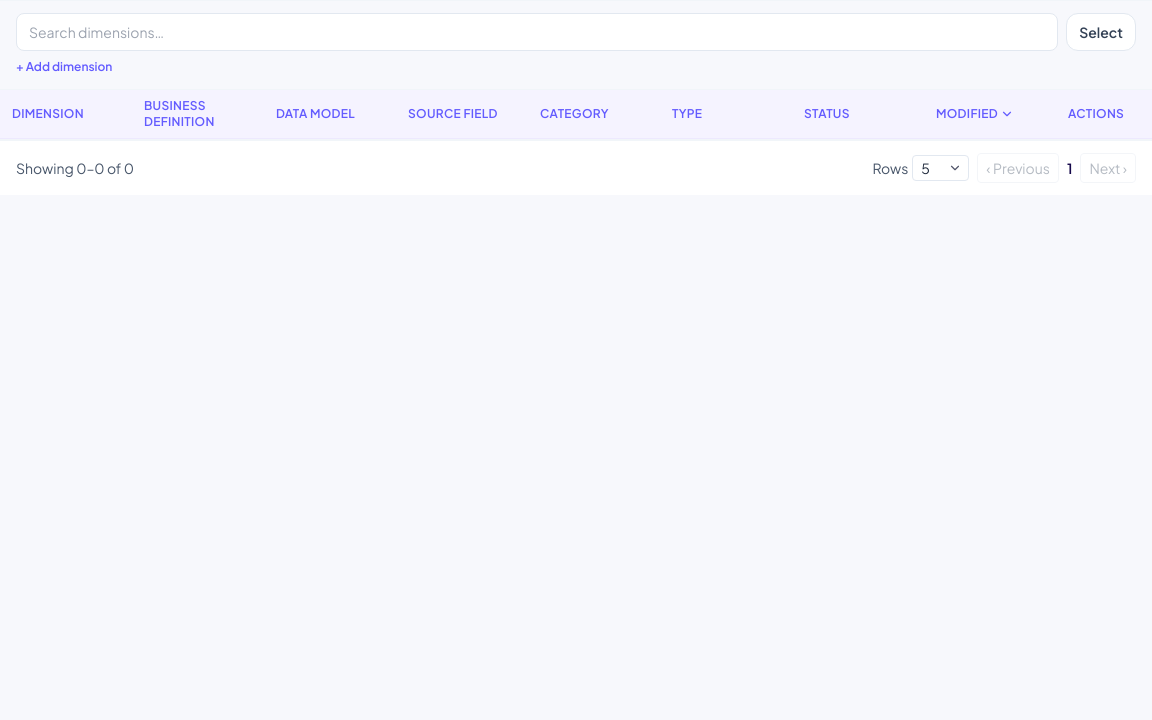
Test case: SEM-2A matrix › SEM-2A-018 Dimension create/edit
Click the button "+ Add dimension": (64,67) [16,59,112,75]
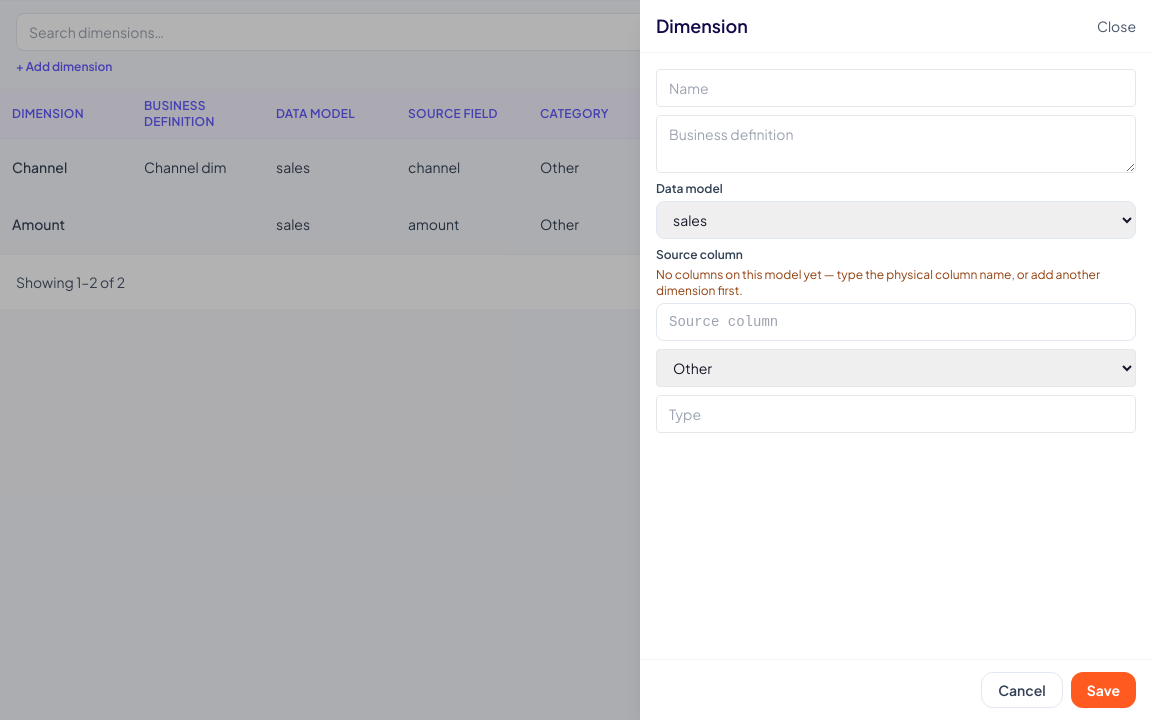
Expected: the field with placeholder "Name" is shown, [656,69,1136,107]
Click the button "Cancel": (1022,690) [981,672,1063,708]
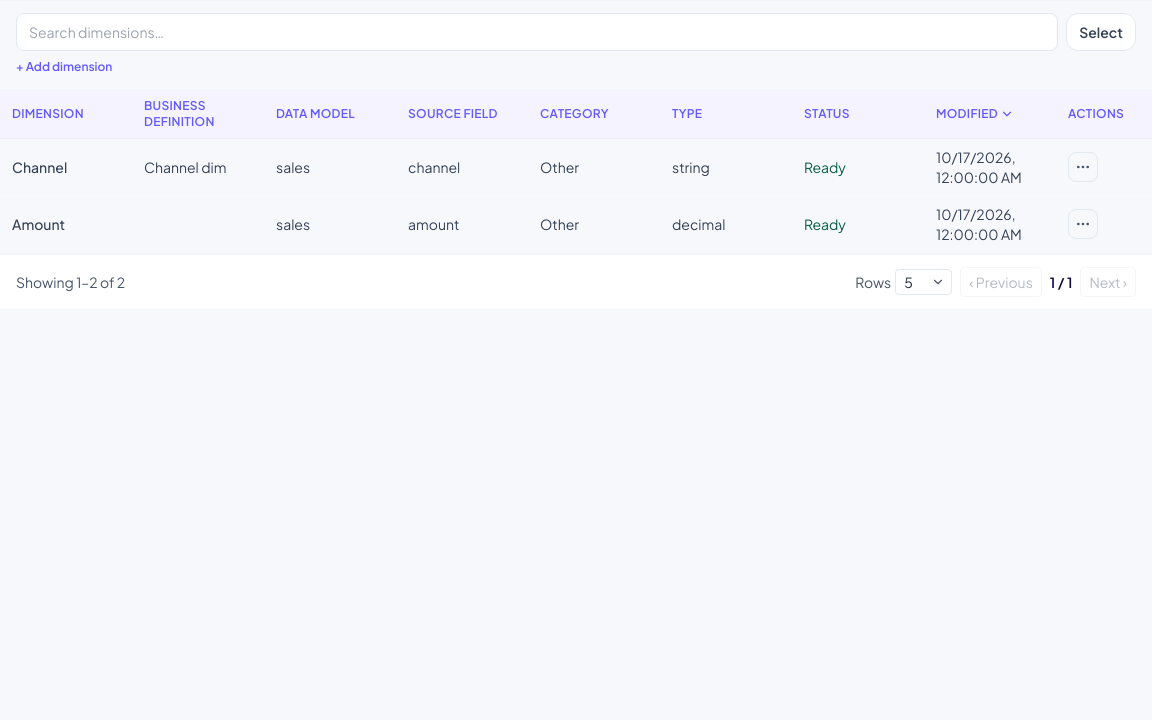
Expected: the text "Channel" is shown, [12,158,67,176]
Click the button named "Edit Channel": (1083,167) [1068,152,1098,182]
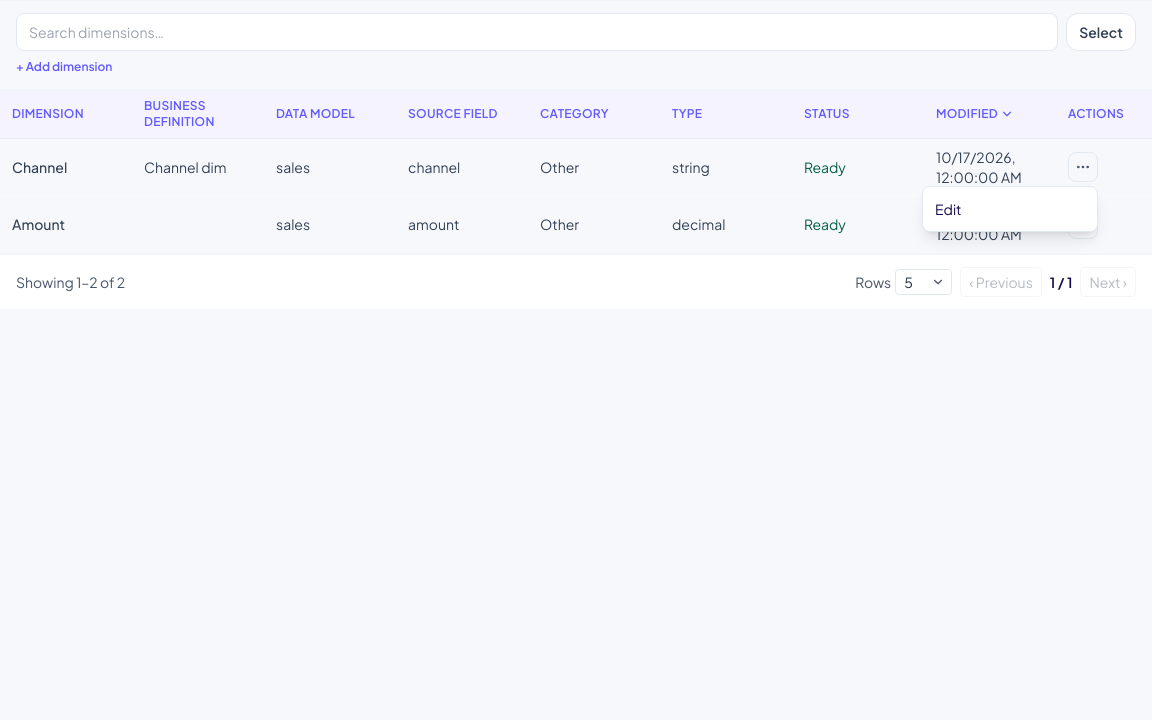
Click the menu item "Edit": (1010,209) [923,191,1097,227]
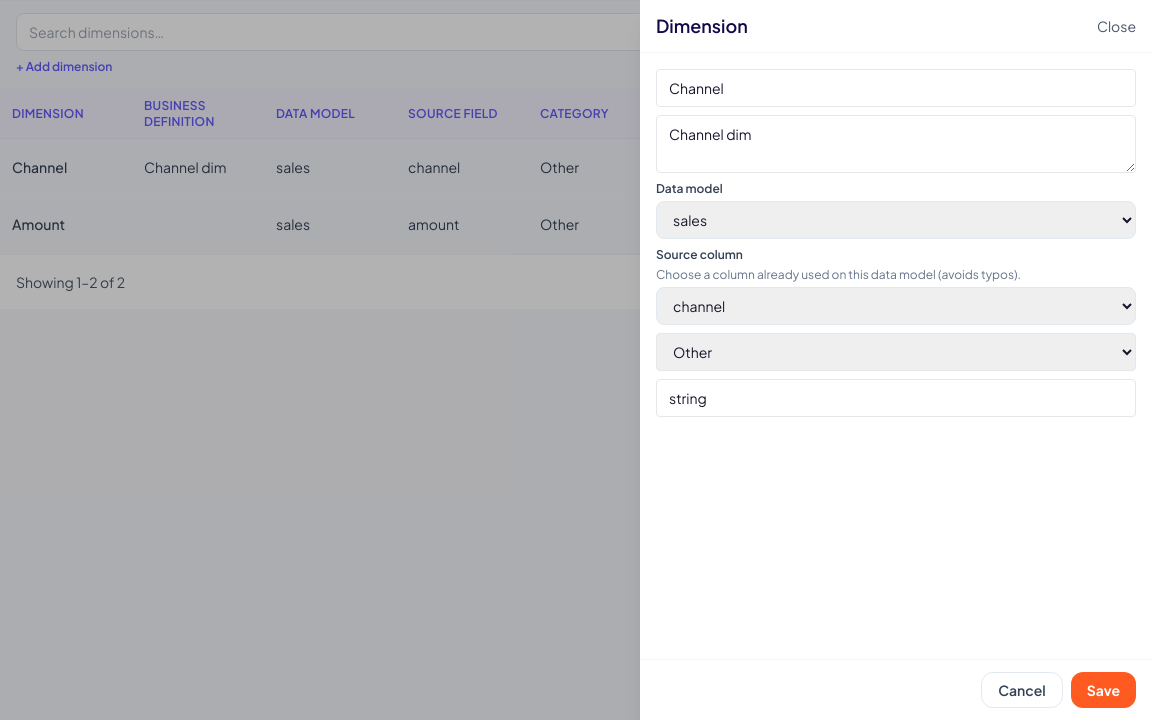
Expected: the 1st field showing "Channel" is shown, [656,69,1136,107]
